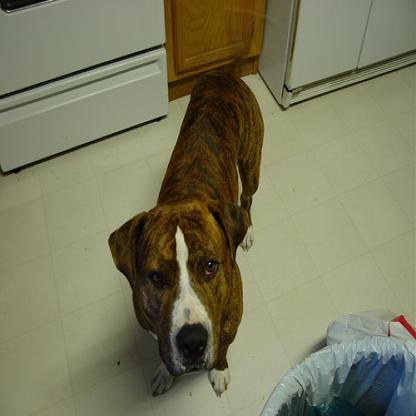dog: (108, 68, 265, 398)
